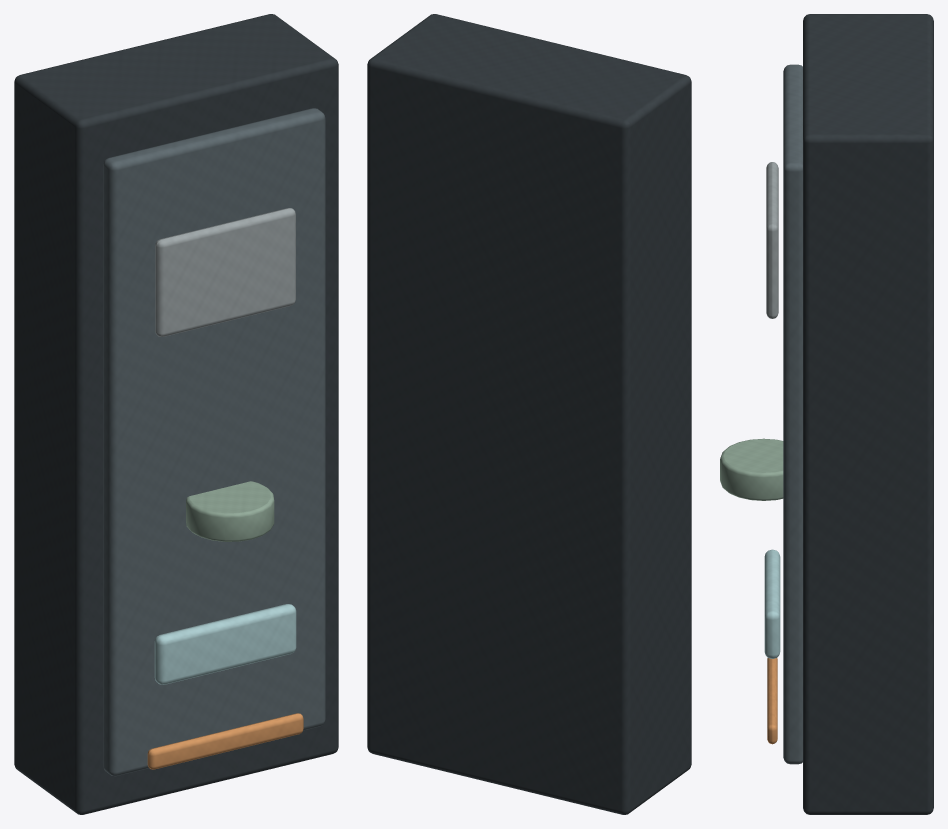
The model's file is WallIntercom.fbx.
3 views of the same model, side by side, from view 1: azimuth 30°, elevation 25°; view 2: azimuth 150°, elevation 25°; view 3: azimuth 270°, elevation 25° (orthographic). The views are drawn at different scales.
Visible parts, largest first — view 1: WallIntercom_Mesh; view 2: WallIntercom_Mesh; view 3: WallIntercom_Mesh.
Part boxes in pixels (x1,y1,x2,y2): WallIntercom_Mesh: [14, 14, 338, 814]; WallIntercom_Mesh: [367, 14, 691, 814]; WallIntercom_Mesh: [720, 14, 933, 814].
Bounding box in the file's own units: 34 × 86 × 24.5.
Materials: 6 (6 with a texture image).
